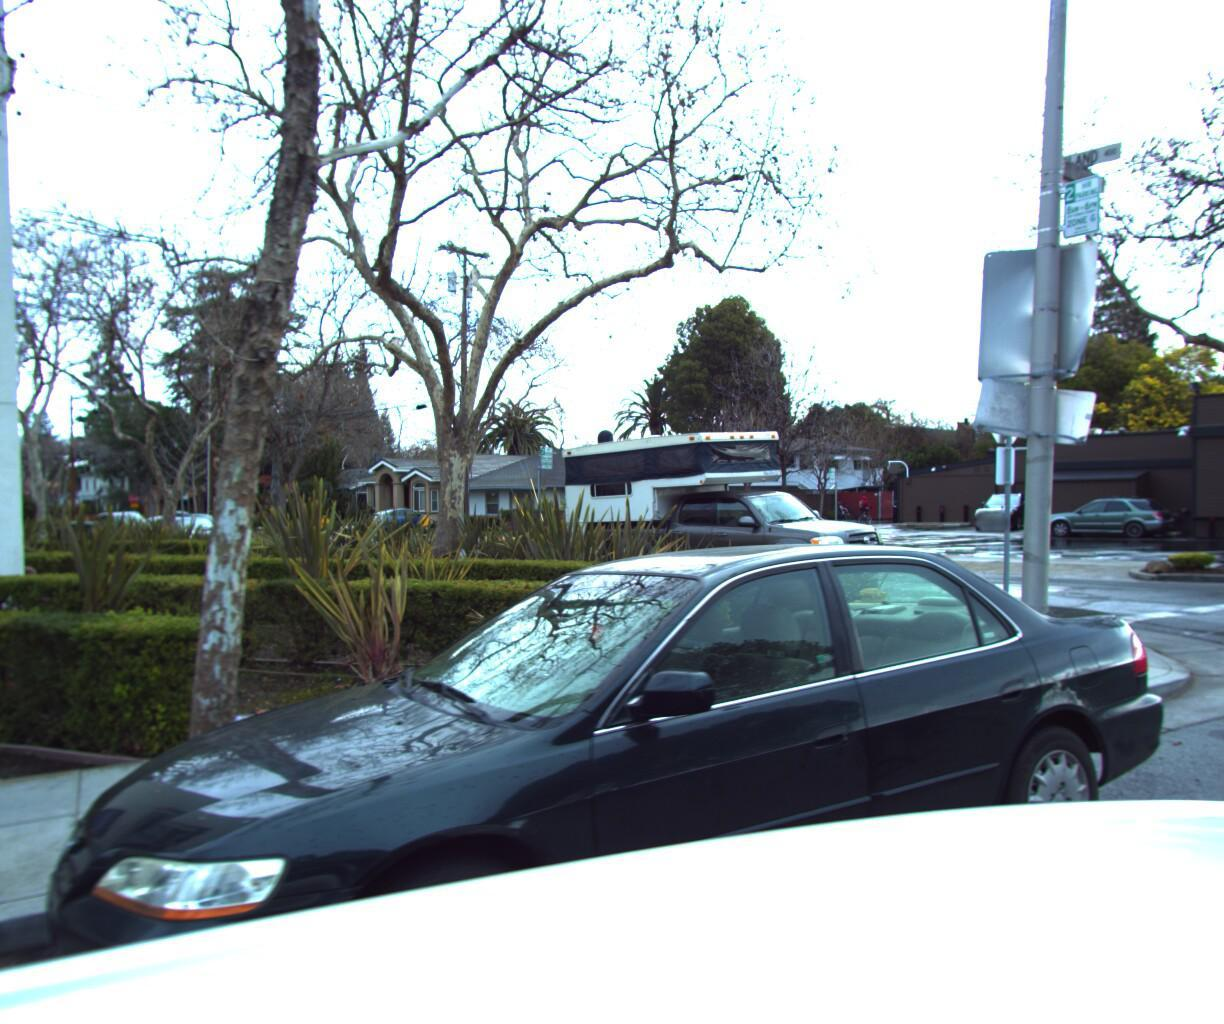car: (0, 510, 1221, 1024), (552, 403, 923, 616)
